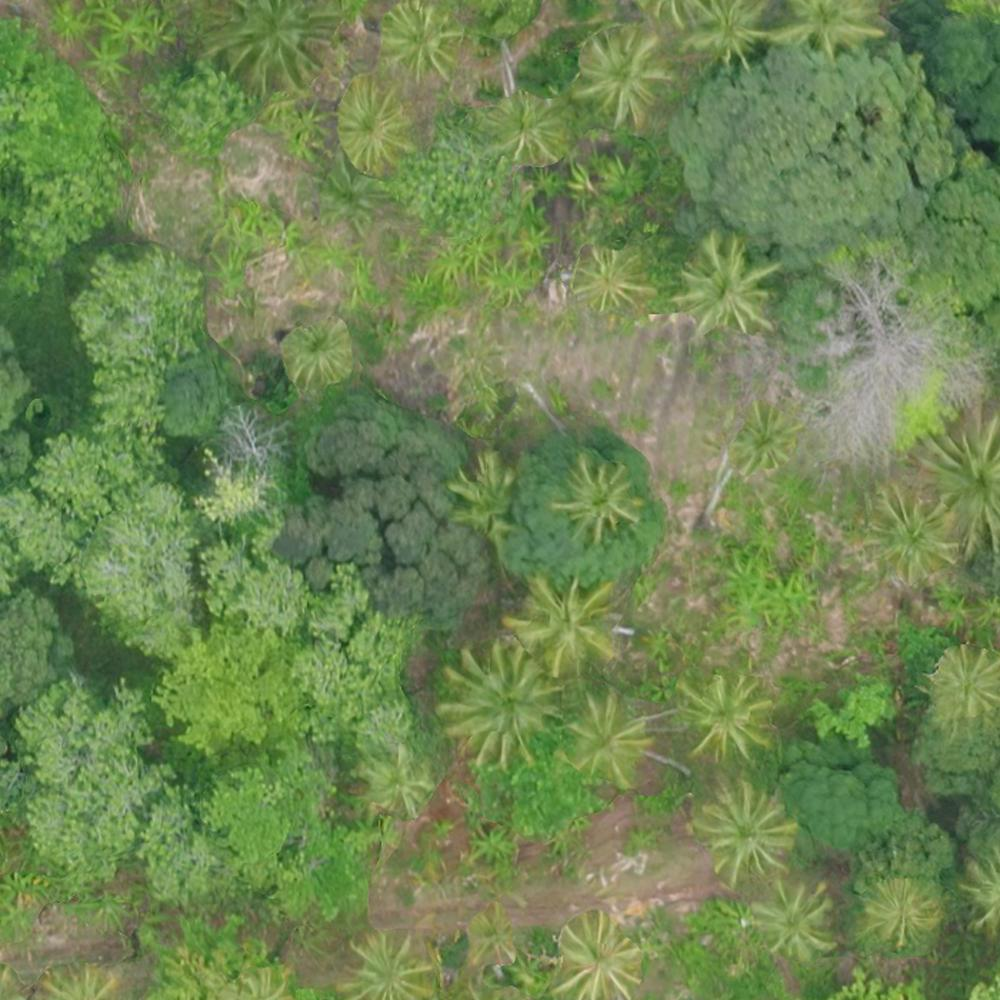Palm: (449, 649, 557, 762), (504, 577, 626, 666), (696, 786, 796, 874), (685, 238, 774, 333), (577, 31, 667, 123), (562, 690, 651, 782), (680, 677, 776, 762), (550, 917, 644, 1000), (862, 491, 951, 576), (754, 878, 837, 962), (338, 932, 440, 1000), (338, 79, 413, 161), (558, 458, 636, 533), (572, 242, 644, 322), (728, 396, 802, 471), (927, 645, 996, 724), (377, 1, 453, 68), (280, 319, 355, 386), (862, 875, 933, 944)
